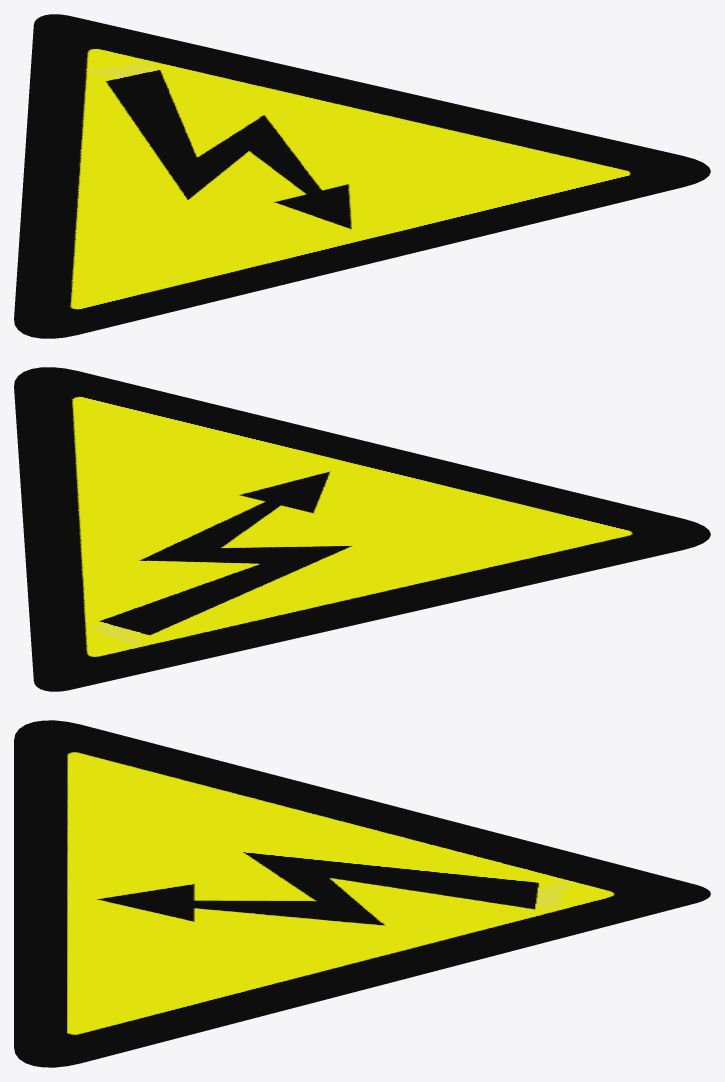
The model's file is Опасно.fbx.
3 views of the same model, one above another, from view 1: azimuth 30°, elevation 25°; view 2: azimuth 150°, elevation 25°; view 3: azimuth 270°, elevation 25° (orthographic). The views are drawn at different scales.
Parts seen in each view (by area): view 1: BVMJgmBCMAArLE1 (1).002; view 2: BVMJgmBCMAArLE1 (1).002; view 3: BVMJgmBCMAArLE1 (1).002.
Boxes of the visible parts, <box> form: BVMJgmBCMAArLE1 (1).002: <box>14,14,710,338</box>; BVMJgmBCMAArLE1 (1).002: <box>14,367,710,691</box>; BVMJgmBCMAArLE1 (1).002: <box>14,720,710,1067</box>.
Size of the model in its own units: 11.22 by 0 by 9.52.
1 material, 1 textured.
